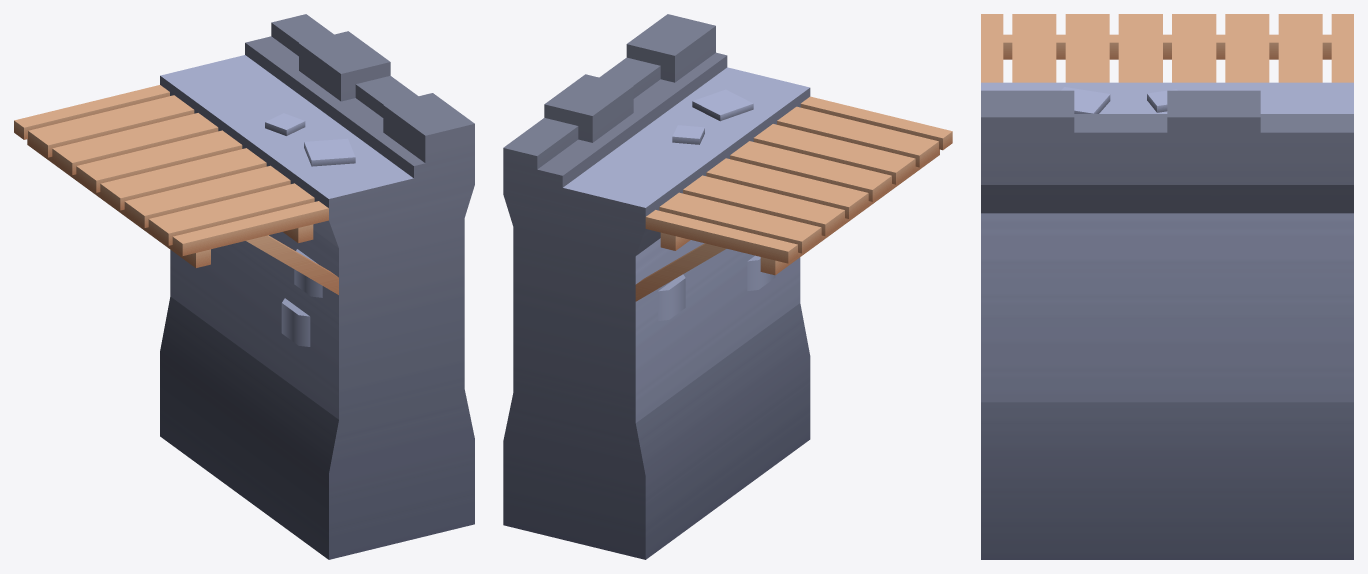
The model's file is wall-narrow-wood.fbx.
3 renders of one model, left to right at view 1: azimuth 30°, elevation 25°; view 2: azimuth 150°, elevation 25°; view 3: azimuth 270°, elevation 25°, orthographic. The views are drawn at different scales.
Parts seen in each view (by area): view 1: wall-narrow-wood; view 2: wall-narrow-wood; view 3: wall-narrow-wood.
Boxes of the visible parts, x1,y1,x2,y2 form: wall-narrow-wood: (14, 14, 474, 559); wall-narrow-wood: (503, 14, 952, 559); wall-narrow-wood: (981, 14, 1353, 559).
Size of the model in its own units: 1 by 1 by 1.31.
